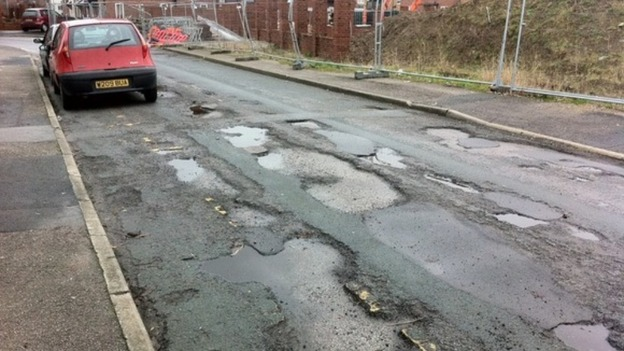pothole: (176, 234, 393, 349), (244, 141, 405, 226), (139, 153, 259, 213), (195, 111, 268, 150), (537, 311, 613, 346), (486, 195, 536, 241), (414, 114, 471, 141)
